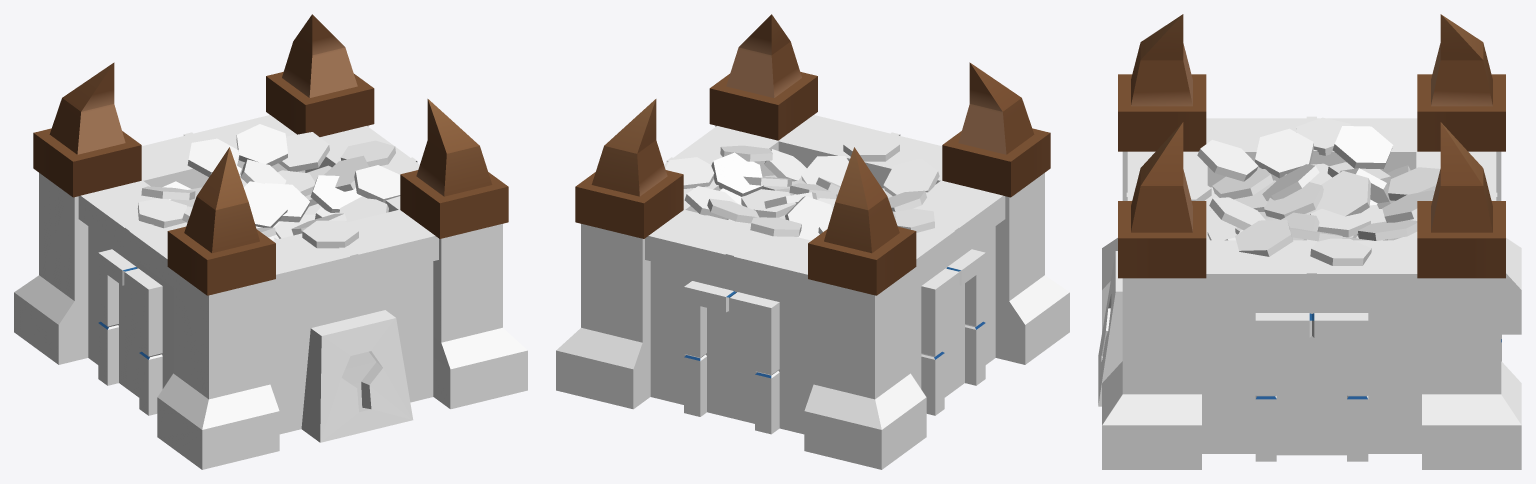
Rendered from Building_GoldMine_Lv4.fbx.
3 renders of one model, left to right at view 1: azimuth 30°, elevation 25°; view 2: azimuth 150°, elevation 25°; view 3: azimuth 270°, elevation 25°, orthographic. The views are drawn at different scales.
Parts seen in each view (by area): view 1: Building_GoldMine_Lv4, gold_3, gold_2; view 2: Building_GoldMine_Lv4, gold_3; view 3: Building_GoldMine_Lv4, gold_3, gold_2.
Part boxes in pixels (x1,y1,x2,y2): Building_GoldMine_Lv4: (14, 14, 527, 469); gold_3: (137, 124, 400, 248); gold_2: (273, 206, 339, 239); Building_GoldMine_Lv4: (556, 14, 1069, 469); gold_3: (665, 134, 939, 240); Building_GoldMine_Lv4: (1098, 14, 1521, 469); gold_3: (1185, 117, 1440, 265); gold_2: (1234, 180, 1381, 237).
Size of the model in its own units: 0.7208 by 0.5942 by 0.7275.
